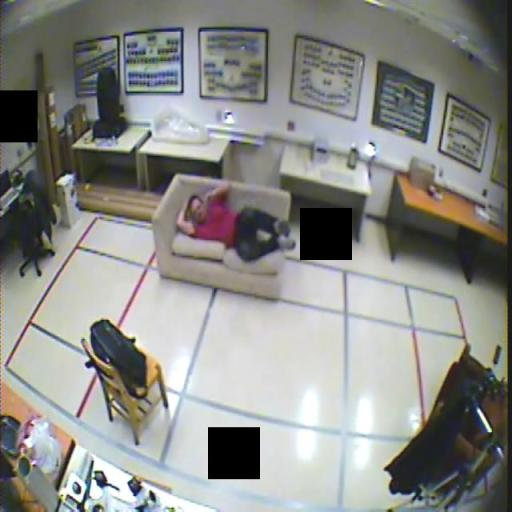Fall: (175, 180, 295, 263)
